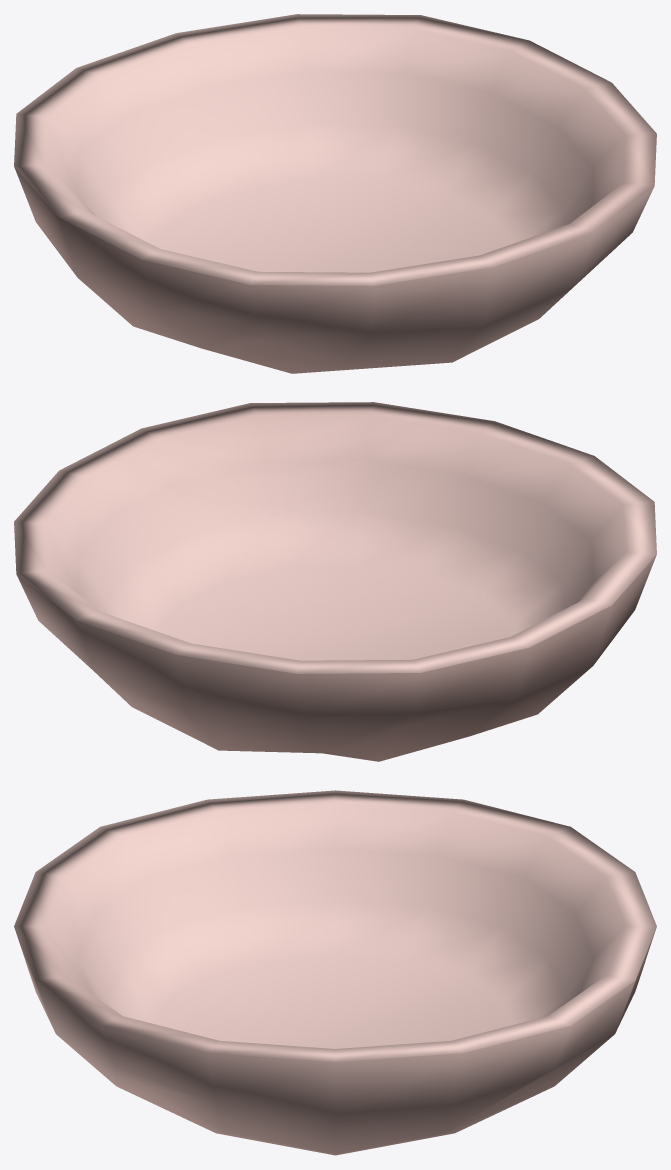
The model's file is Bowl.fbx.
The picture shows the model from 3 angles, top to bottom: view 1: azimuth 30°, elevation 25°; view 2: azimuth 150°, elevation 25°; view 3: azimuth 270°, elevation 25°; orthographic projection.
Visible parts, largest first — view 1: Bowl; view 2: Bowl; view 3: Bowl.
Boxes of the visible parts, x1,y1,x2,y2 form: Bowl: (14,14,656,373); Bowl: (14,402,656,761); Bowl: (14,790,656,1155).
Bounding box in the file's own units: 7.38 × 2.3 × 7.38.
